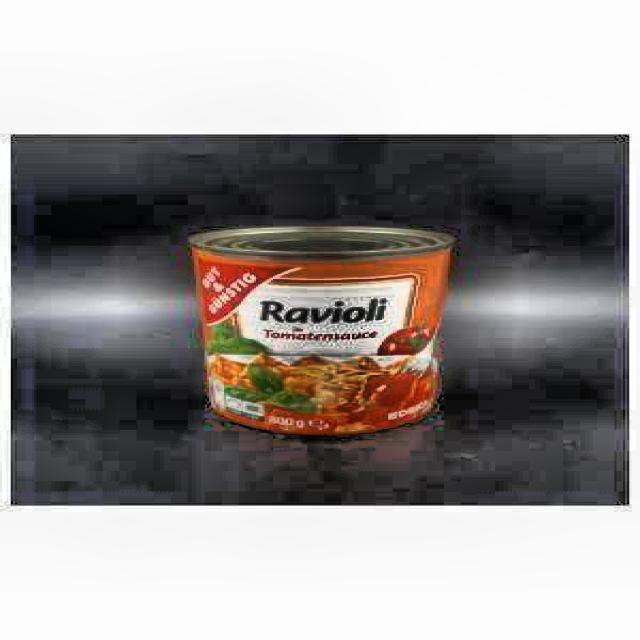Cans: (173, 211, 464, 445)
